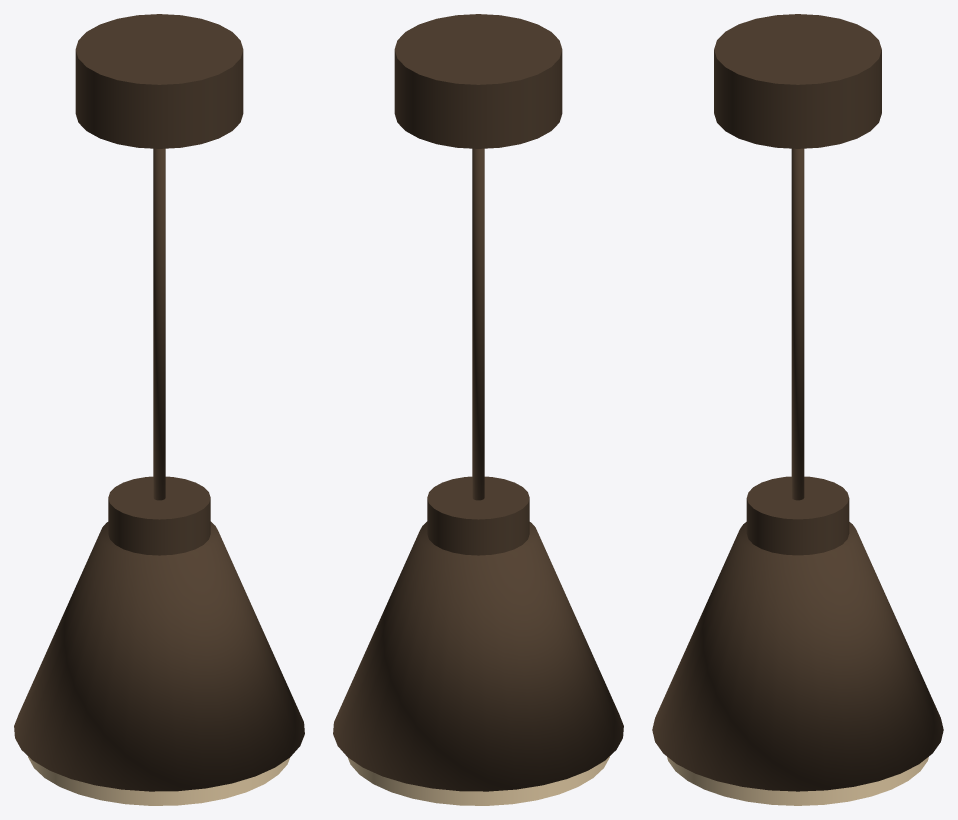
File: kitchen_pendant.glb
3 renders of one model, left to right at view 1: azimuth 30°, elevation 25°; view 2: azimuth 150°, elevation 25°; view 3: azimuth 270°, elevation 25°, orthographic.
Visible parts, largest first — view 1: kitchen_pendant_001_bell_shade, kitchen_pendant_005_ceiling_canopy, kitchen_pendant_003_shade_collar, kitchen_pendant_004_suspension_cord, kitchen_pendant_002_frosted_diffuser; view 2: kitchen_pendant_001_bell_shade, kitchen_pendant_005_ceiling_canopy, kitchen_pendant_003_shade_collar, kitchen_pendant_004_suspension_cord, kitchen_pendant_002_frosted_diffuser; view 3: kitchen_pendant_001_bell_shade, kitchen_pendant_005_ceiling_canopy, kitchen_pendant_003_shade_collar, kitchen_pendant_004_suspension_cord, kitchen_pendant_002_frosted_diffuser.
Part boxes in pixels (x1,y1,x2,y2): kitchen_pendant_001_bell_shade: (14,521,304,791); kitchen_pendant_005_ceiling_canopy: (75,14,243,148); kitchen_pendant_003_shade_collar: (108,476,210,555); kitchen_pendant_004_suspension_cord: (153,148,165,500); kitchen_pendant_002_frosted_diffuser: (28,756,289,805); kitchen_pendant_001_bell_shade: (333,521,623,791); kitchen_pendant_005_ceiling_canopy: (394,14,562,148); kitchen_pendant_003_shade_collar: (427,476,529,555); kitchen_pendant_004_suspension_cord: (472,148,484,500); kitchen_pendant_002_frosted_diffuser: (348,756,609,805); kitchen_pendant_001_bell_shade: (652,522,943,791); kitchen_pendant_005_ceiling_canopy: (714,14,881,148); kitchen_pendant_003_shade_collar: (746,476,849,555); kitchen_pendant_004_suspension_cord: (791,148,804,500); kitchen_pendant_002_frosted_diffuser: (667,757,928,805).
Size of the model in its own units: 0.33 by 0.875 by 0.33.
